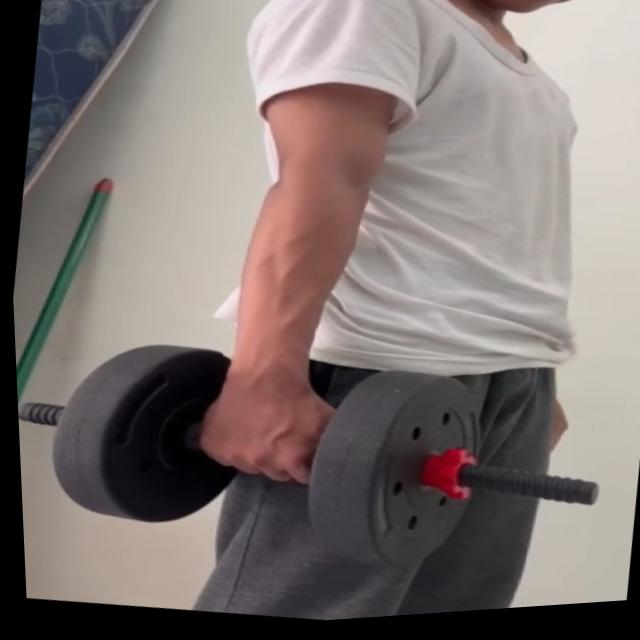hammer: (29, 305, 501, 601)
